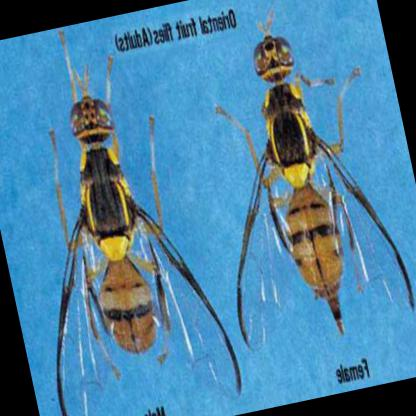fruit fly: (57, 58, 243, 416), (237, 15, 413, 347)
